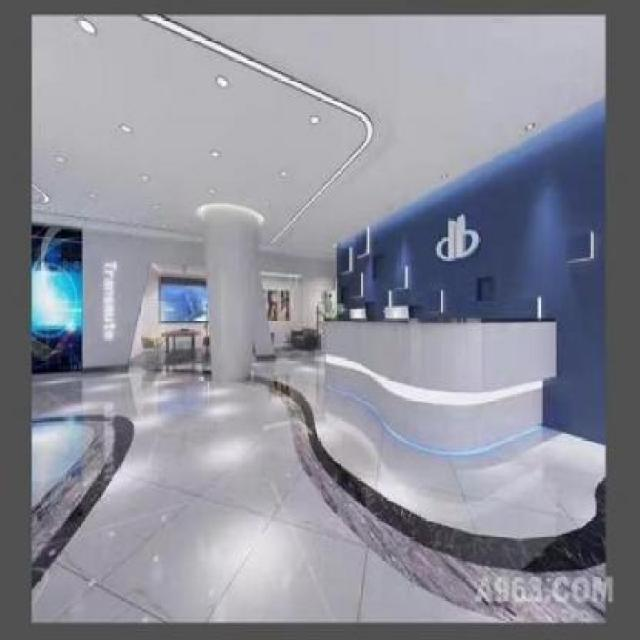frontdesk: (305, 304, 563, 472)
